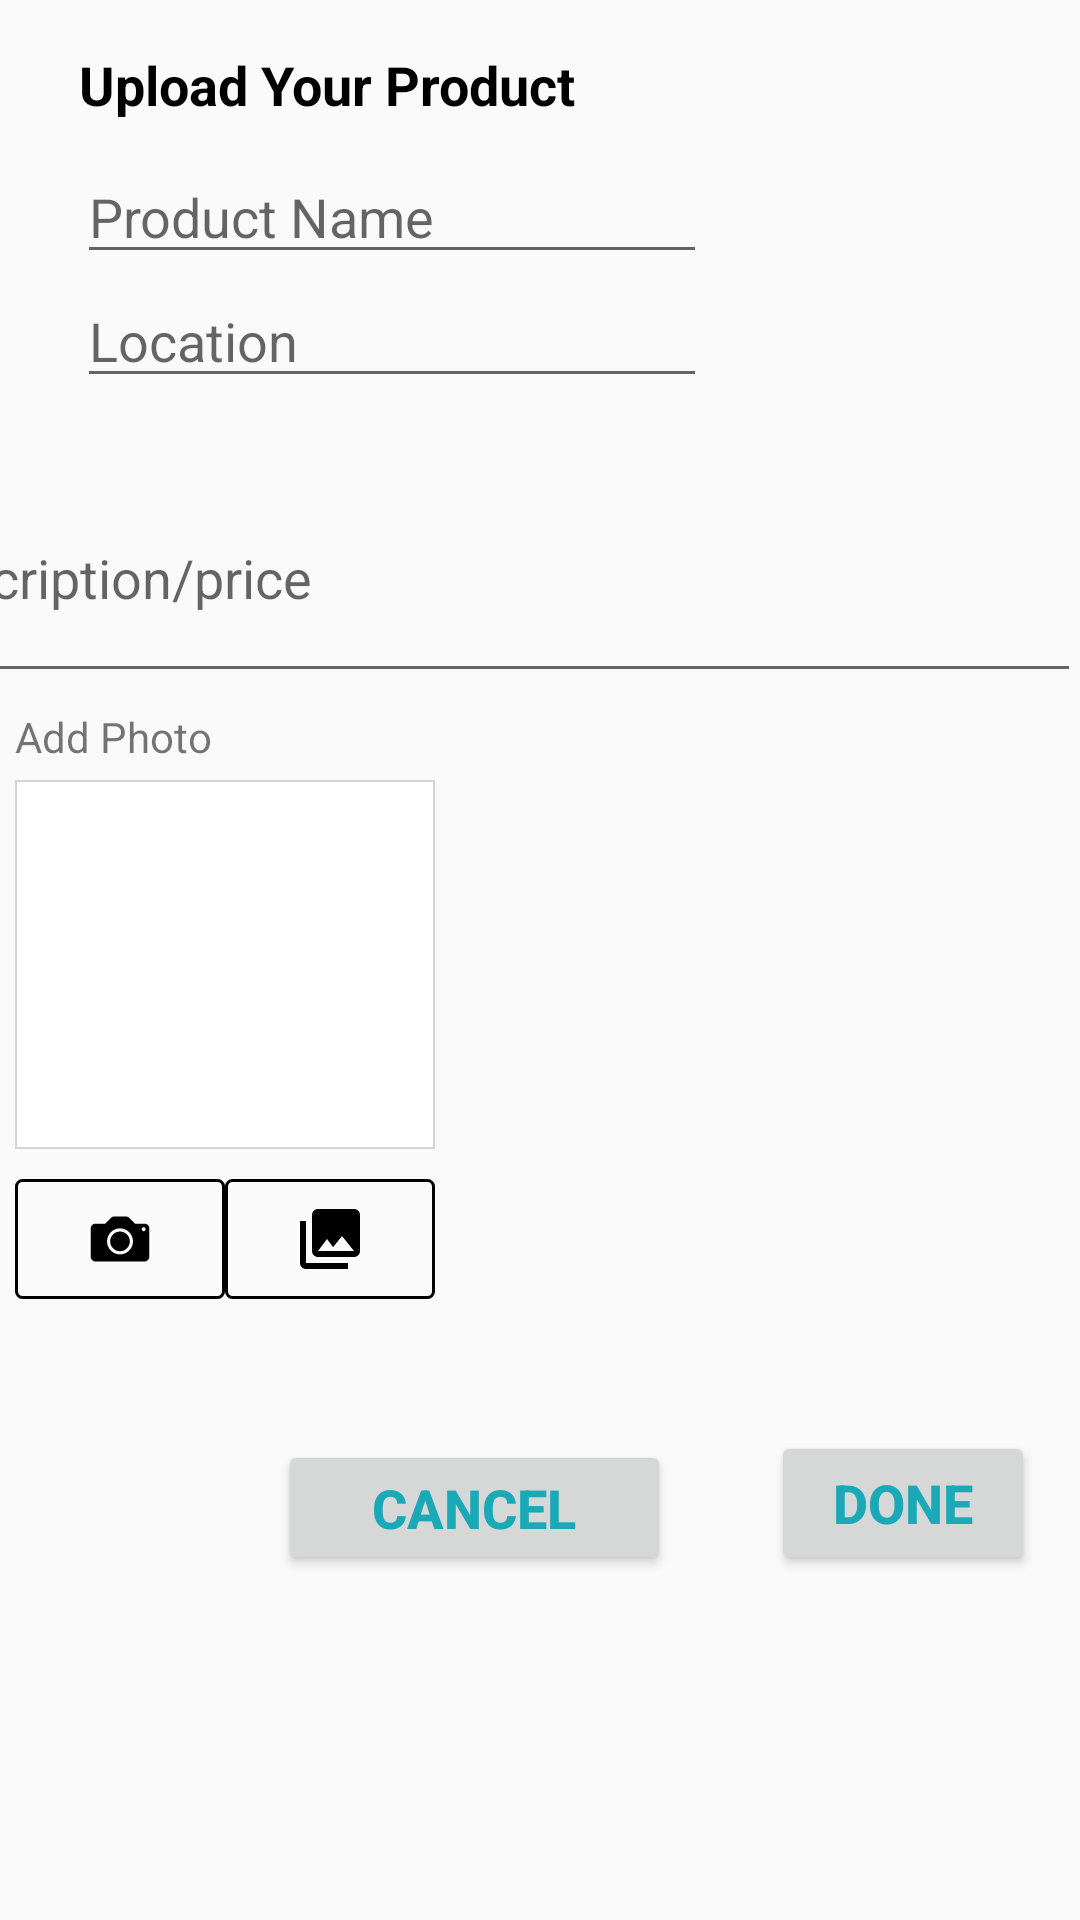

Screen size 1080 x 1920. Icon name, then its center in pixels as (x=x, y=y):
camera: (x=120, y=1239)
photo library: (x=330, y=1239)
